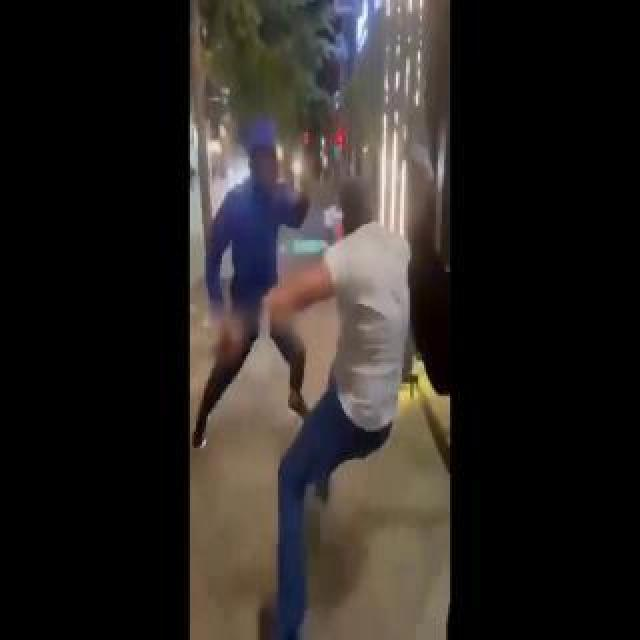fight: (190, 114, 416, 640)
